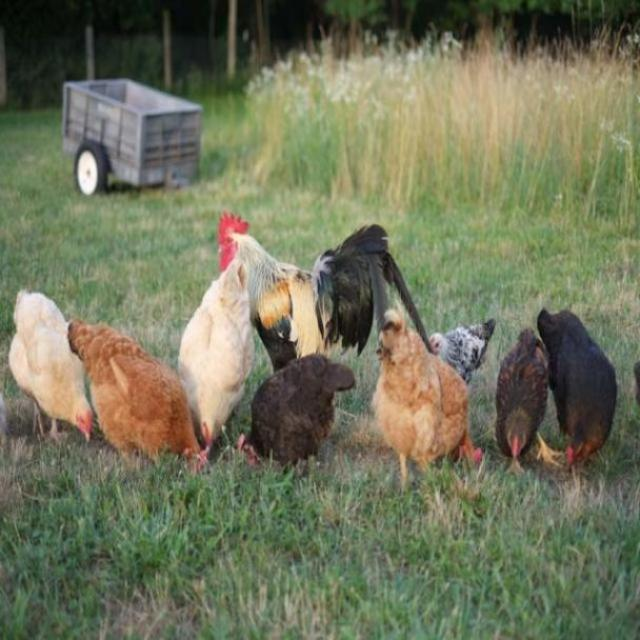Chicken: (7, 211, 496, 488), (210, 210, 408, 366), (364, 301, 490, 487), (73, 299, 198, 479), (168, 268, 256, 456), (233, 354, 359, 468), (536, 305, 619, 464), (12, 289, 92, 439), (494, 326, 561, 465)
